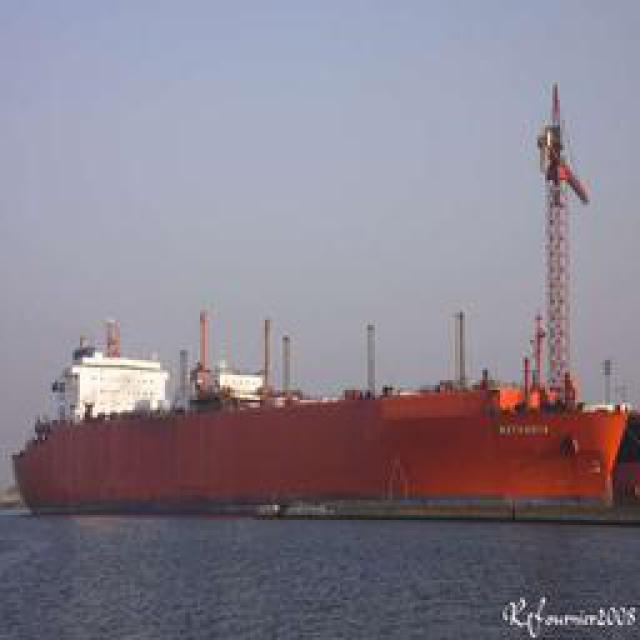Ship: (5, 324, 635, 517)
